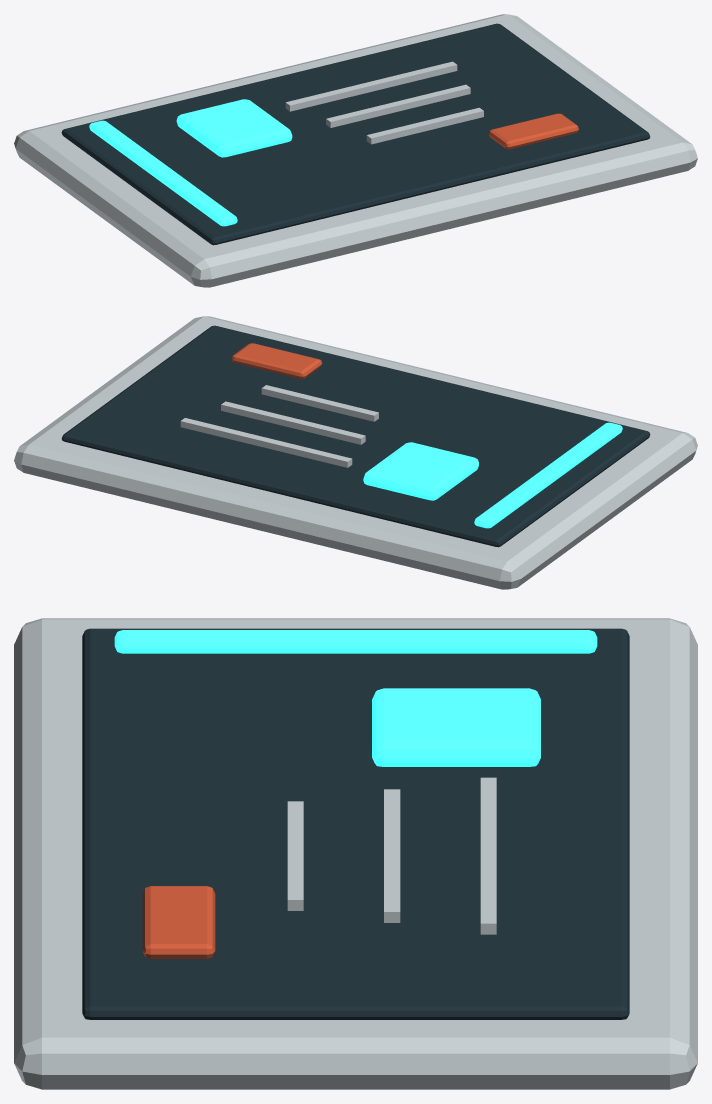
The model's file is SM_MarsAccessCard.fbx.
3 views of the same model, one above another, from view 1: azimuth 30°, elevation 25°; view 2: azimuth 150°, elevation 25°; view 3: azimuth 270°, elevation 25° (orthographic). The views are drawn at different scales.
Visible parts, largest first — view 1: SM_MarsAccessCard; view 2: SM_MarsAccessCard; view 3: SM_MarsAccessCard.
Boxes of the visible parts, x1,y1,x2,y2 form: SM_MarsAccessCard: (14, 14, 697, 287); SM_MarsAccessCard: (14, 316, 697, 589); SM_MarsAccessCard: (14, 618, 697, 1089).
Bounding box in the file's own units: 26 × 17 × 2.25.
